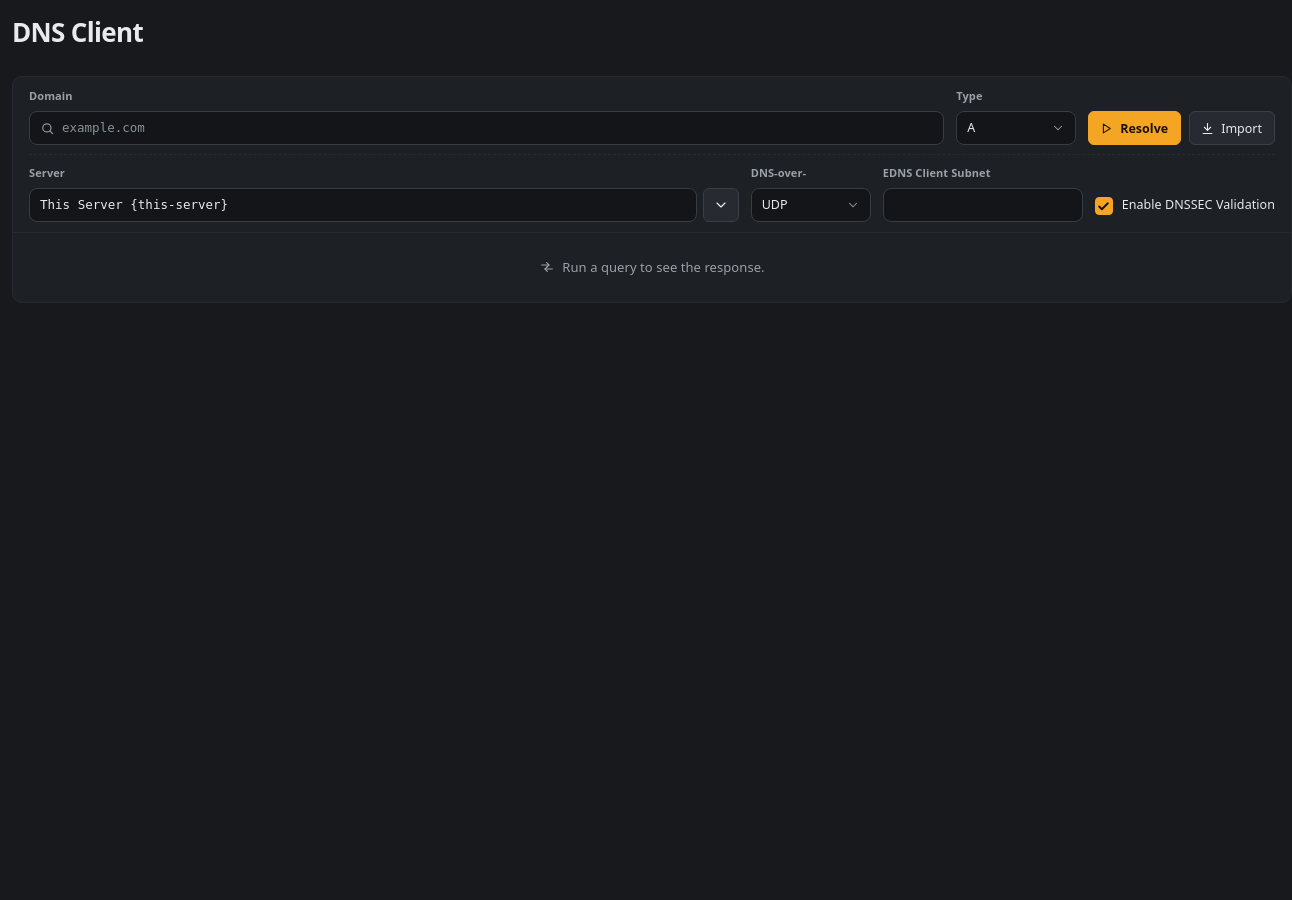
Test: DNS Client: the sections › a tab lists the Extended DNS Errors with where each came from
Type "example.org" into the field labelled "Domain" at (487, 128), box [29, 111, 944, 145]
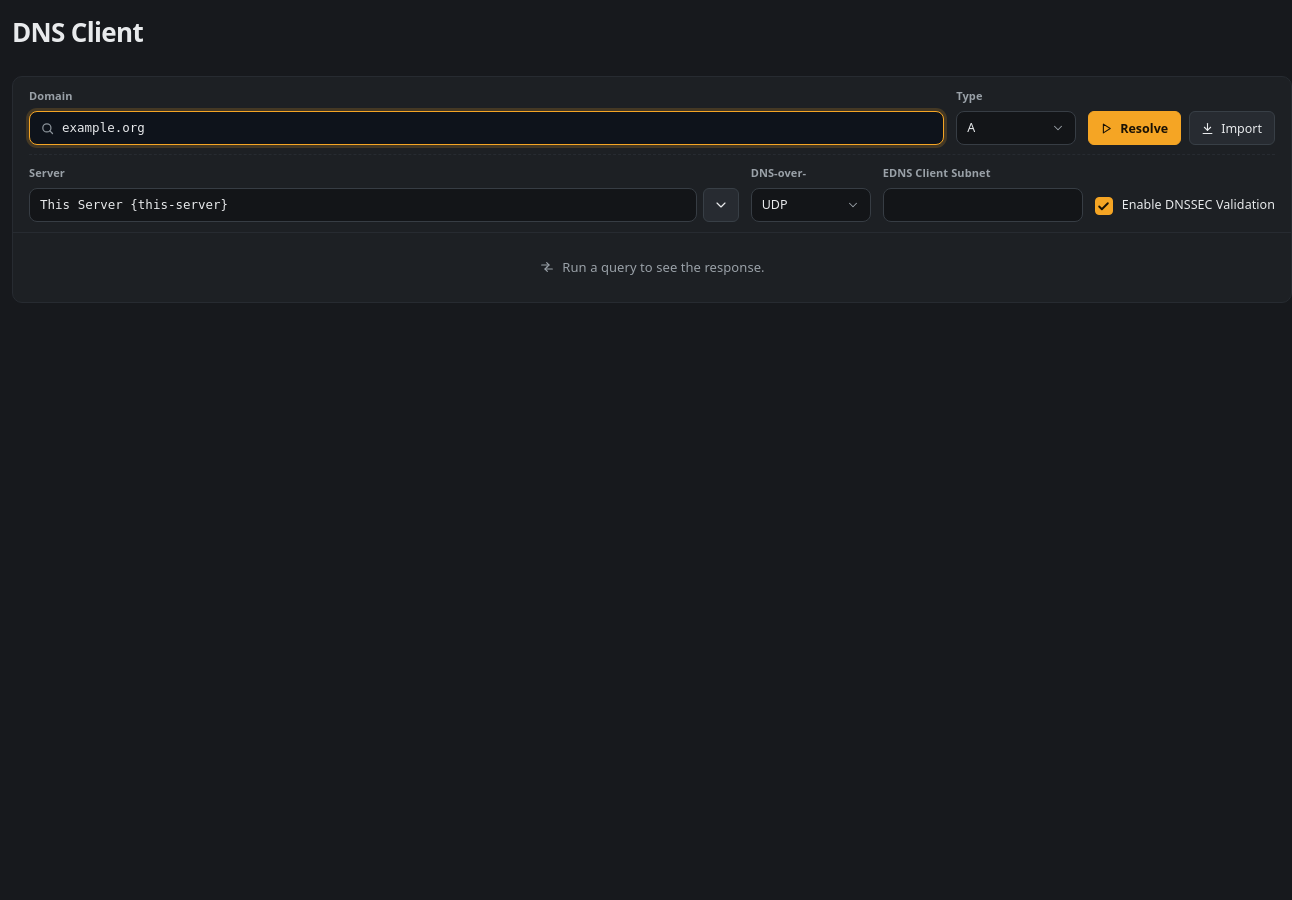
Click the button "Resolve" at (1135, 128), box [1088, 111, 1181, 145]
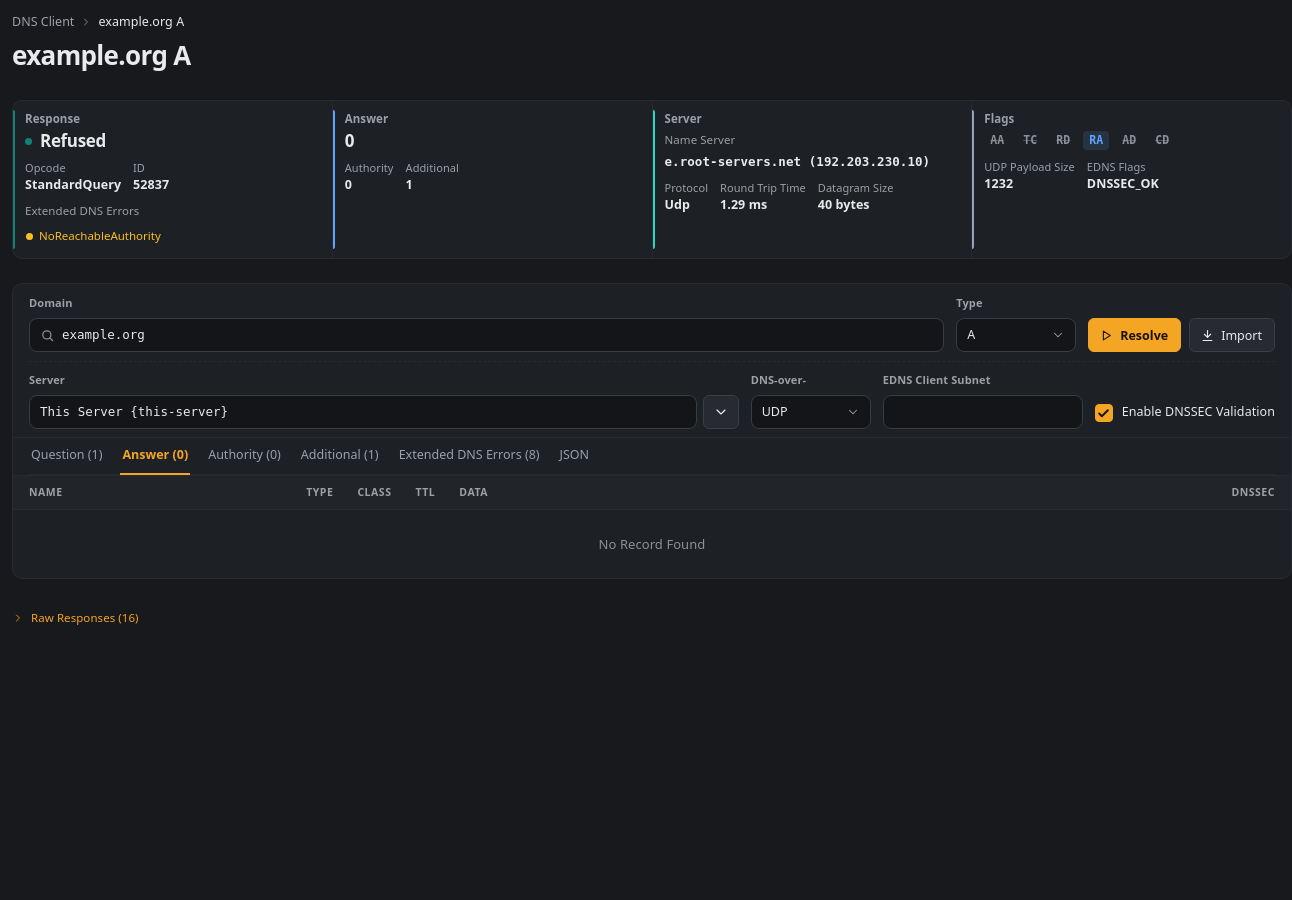
Click the tab "Extended DNS Errors (8)" at (469, 457), box [397, 438, 542, 475]
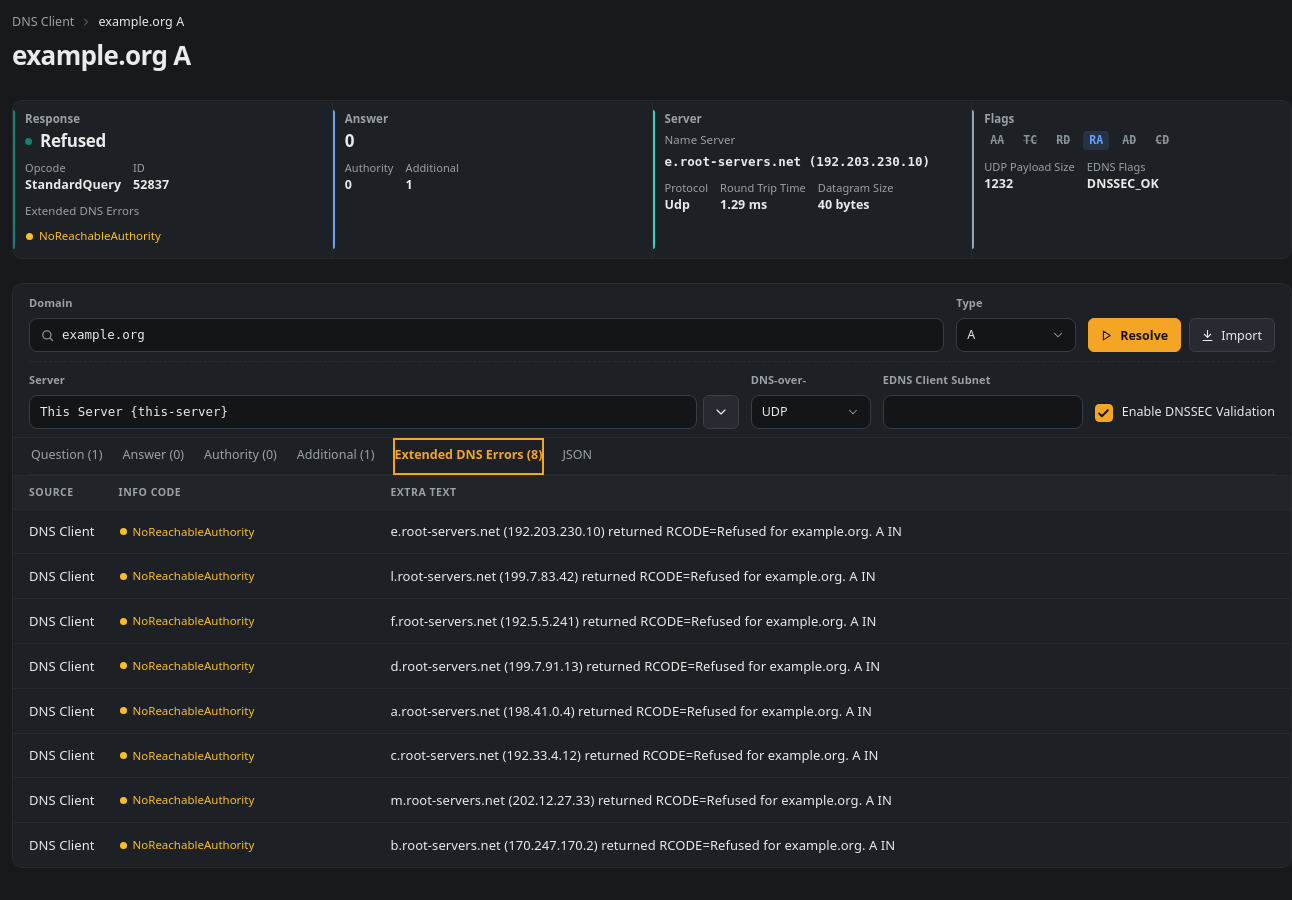
Now the 1st text "DNS Client" is shown, box [13, 509, 106, 554]
Now the text "e.root-servers.net (192.203.230.10) returned RCODE=Refused for example.org. A IN" is shown, box [378, 509, 1291, 554]
